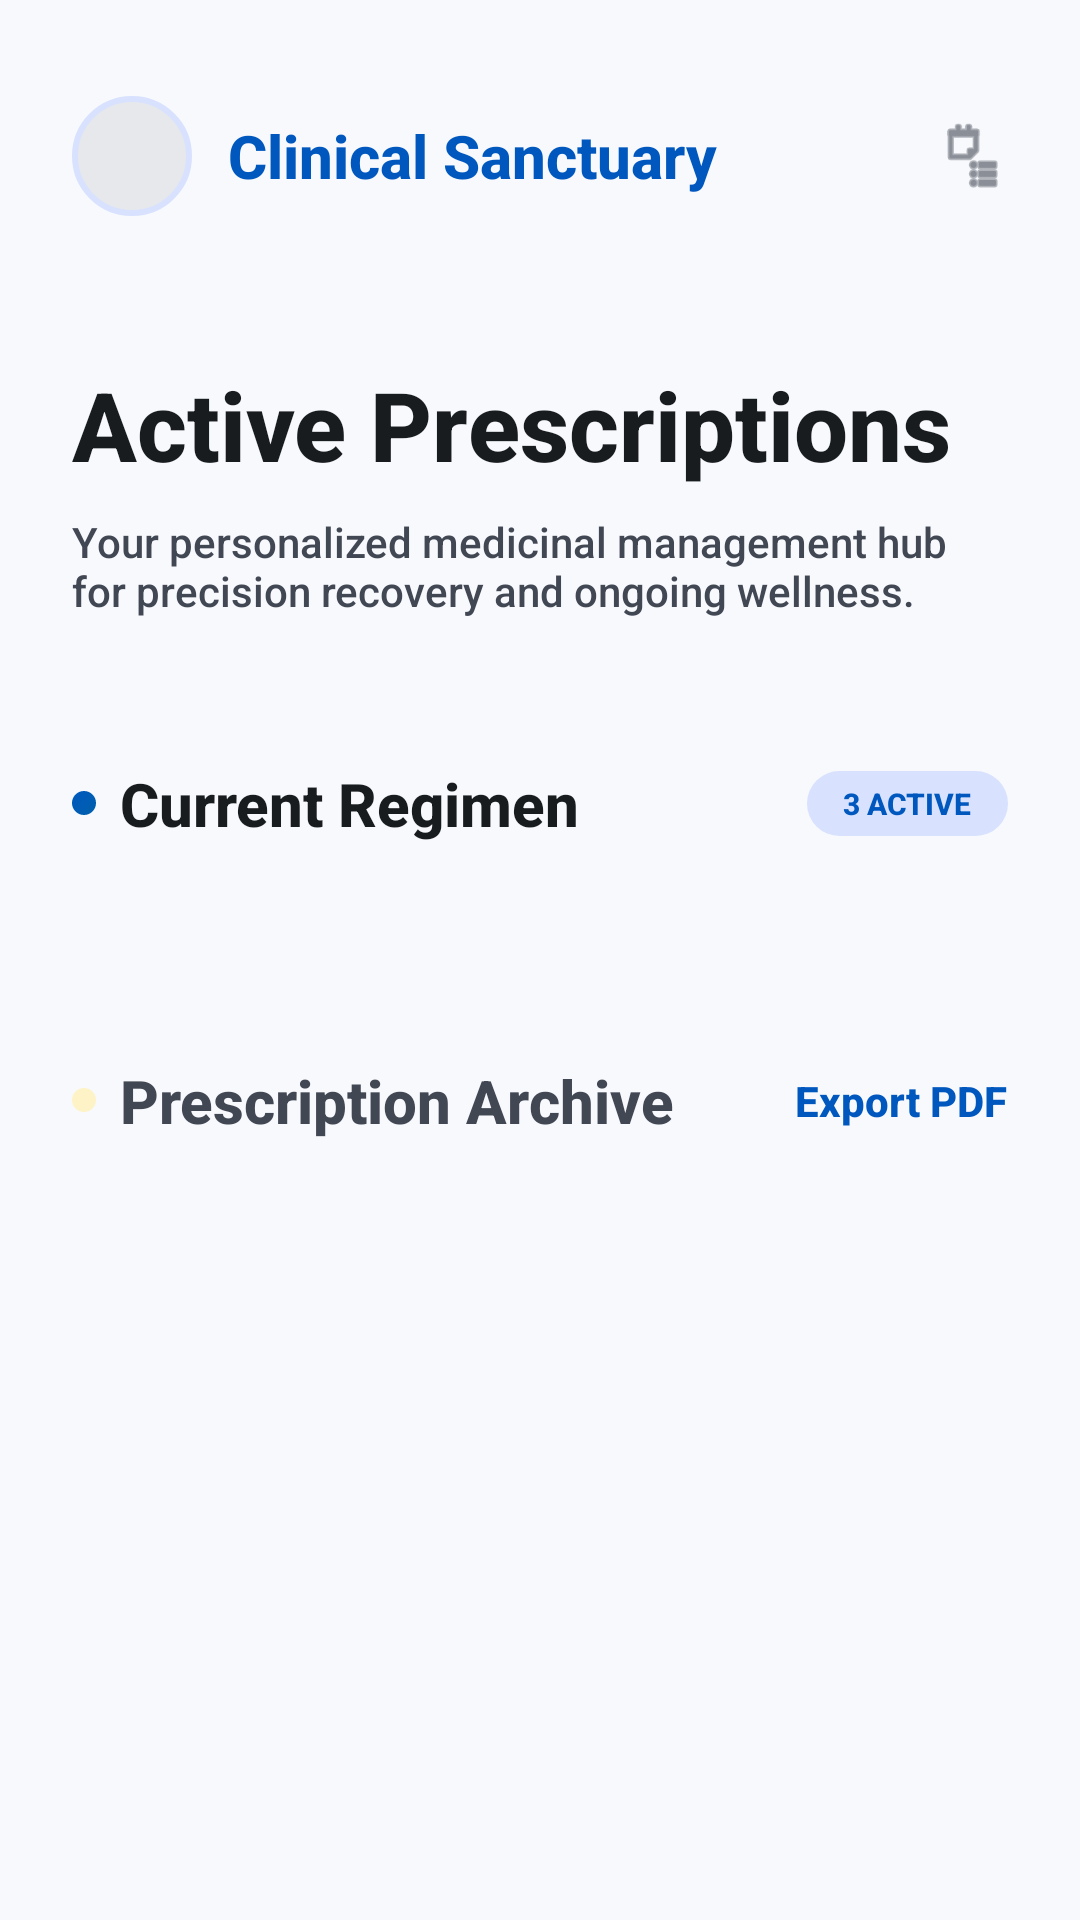

Icon click points for this 1080px×1920px phone screenshot, format [x,y]:
agenda: [972,156]
